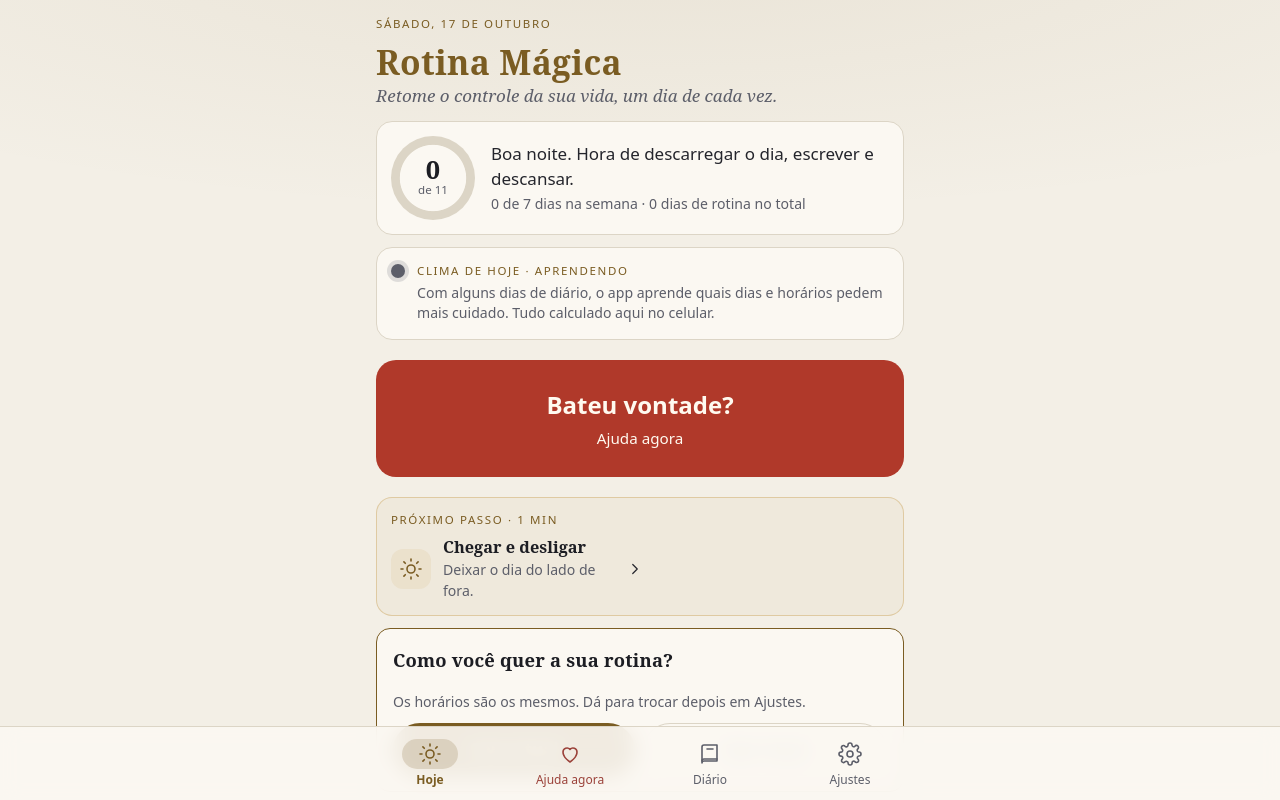
it: Rumo › da tela inicial ao SOS é um toque
The width and height of the screenshot is (1280, 800).
Click the button "Bateu vontade? Ajuda agora".
click(640, 418)  # box [376,360,904,477]
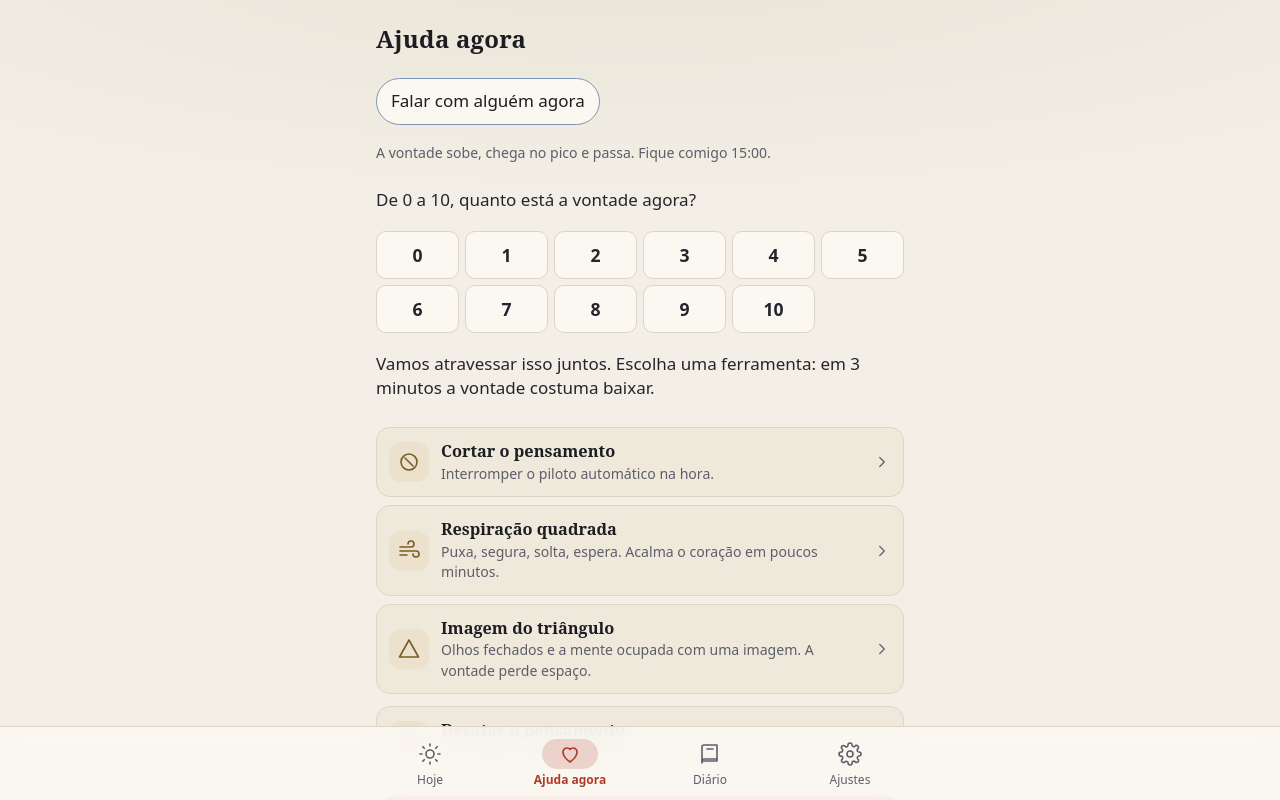
Now the text "Vamos atravessar isso juntos" is shown, box [376,352,860,399]
